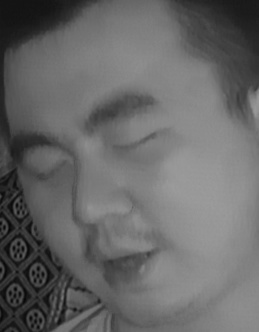blink: (109, 123, 163, 159), (25, 153, 70, 187)
mouth: (83, 235, 165, 294)
